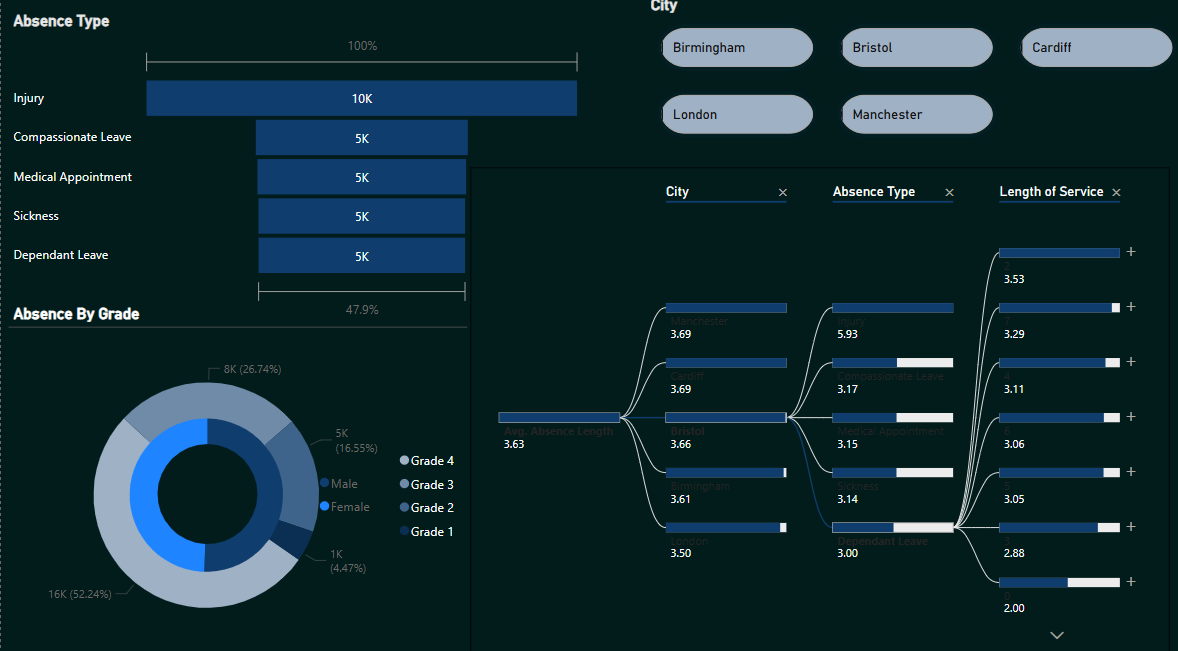

The dashboard page shown, as its layout file describes it:
{"tool":"powerbi","page":{"name":"Decomposition","canvas":[1280,720],"ordinal":0},"visuals":[{"type":"decompositionTreeVisual","fields":{"Analyze":["Measure.Avg. Absence Length"],"ExplainBy":["Absence.City","Absence.Absence Type","Absence.Length of Service","Absence.Gender"]},"box":[506.8,186.2,754.6,534.3],"z":0},{"type":"donutChart","fields":{"Category":["Absence.Gender"],"Y":["Sum(Absence.Absence Length)"]},"box":[97.2,421,315.7,234.8],"z":1000},{"type":"donutChart","title":"Absence By Grade","fields":{"Y":["Sum(Absence.Absence Length)"],"Category":["Absence.Grade"]},"box":[8.1,333.6,495.5,387],"z":2000},{"type":"advancedSlicerVisual","fields":{"Values":["Absence.City"]},"box":[696.3,0,584.5,166.8],"z":3000},{"type":"funnel","title":"Absence Type","fields":{"Category":["Absence.Absence Type"],"Y":["Sum(Absence.Absence Length)"]},"box":[8.1,17.8,623.4,336.8],"z":3001}]}

Visuals, with their boxes in screenshot pixels (x1, y1, x2, y2), scaled from the page's 1280x720 canvas onto the 1178x651 screenshot:
decompositionTreeVisual - Measure.Avg. Absence Length x Absence.City: bbox=(466, 168, 1161, 650)
donutChart - Absence.Gender x Sum(Absence.Absence Length): bbox=(89, 381, 380, 593)
"Absence By Grade" donutChart: bbox=(7, 302, 463, 650)
advancedSlicerVisual - Absence.City: bbox=(641, 0, 1177, 151)
"Absence Type" funnel: bbox=(7, 16, 581, 321)
